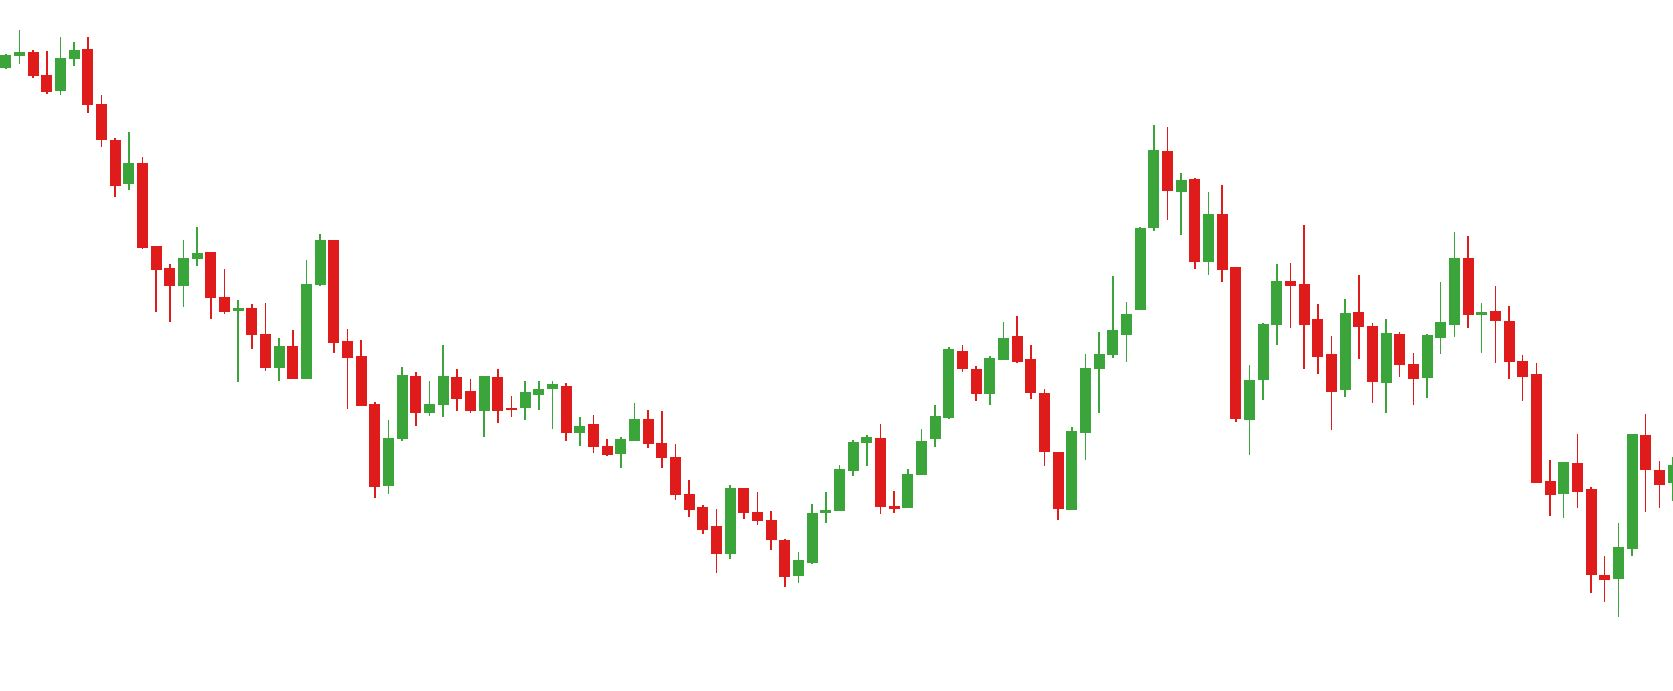buy: (886, 401, 1080, 521), (708, 510, 804, 586)
sell: (1354, 234, 1475, 360), (219, 235, 340, 324)
